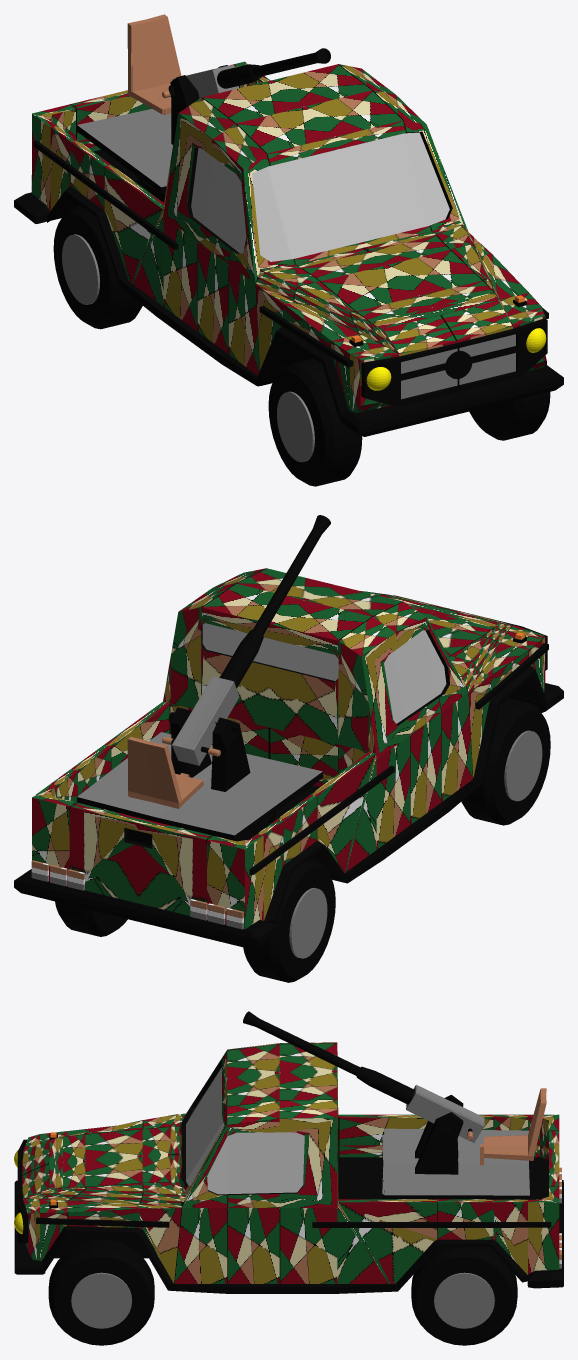
The model's file is Авто 7.fbx.
3 views of the same model, one above another, from view 1: azimuth 30°, elevation 25°; view 2: azimuth 150°, elevation 25°; view 3: azimuth 270°, elevation 25° (orthographic). The views are drawn at different scales.
Visible parts, largest first — view 1: Cube, Cylinder.002, Cylinder.003, Cylinder; view 2: Cube, Cylinder.002, Cylinder.003, Cylinder.001; view 3: Cube, Cylinder, Cylinder.001.
Boxes of the visible parts, box(x1,y1,x2,y2) form: Cube: box(14, 14, 563, 436); Cylinder.002: box(268, 358, 362, 486); Cylinder.003: box(53, 205, 142, 329); Cylinder: box(469, 392, 550, 440); Cube: box(14, 515, 563, 949); Cylinder.002: box(461, 698, 550, 825); Cylinder.003: box(243, 859, 335, 982); Cylinder.001: box(55, 901, 127, 936); Cube: box(14, 1011, 563, 1293); Cylinder: box(48, 1239, 154, 1345); Cylinder.001: box(411, 1247, 517, 1345).
Size of the model in its own units: 105 by 142 by 243.
